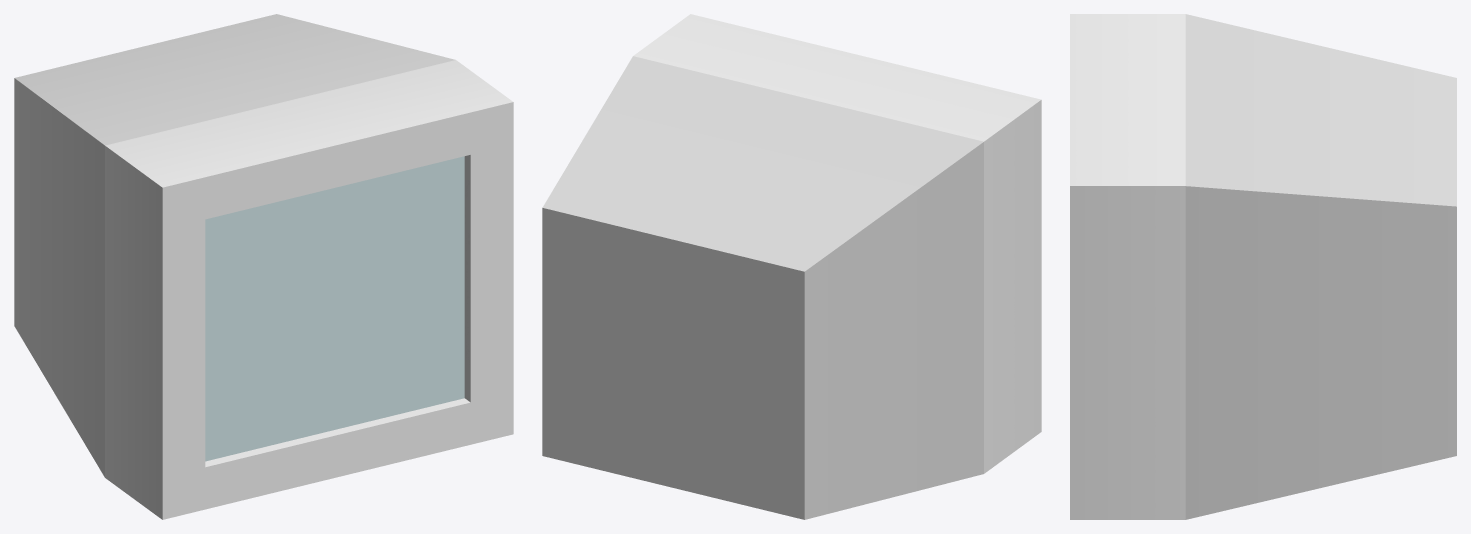
Rendered from Itr_Obj_Monitor_CRT_Screen_On_04.FBX.
The picture shows the model from 3 angles, left to right: view 1: azimuth 30°, elevation 25°; view 2: azimuth 150°, elevation 25°; view 3: azimuth 270°, elevation 25°; orthographic projection.
Parts seen in each view (by area): view 1: Itr_Obj_Monitor_CRT_Screen_On_04; view 2: Itr_Obj_Monitor_CRT_Screen_On_04; view 3: Itr_Obj_Monitor_CRT_Screen_On_04.
Boxes of the visible parts, <box> form: Itr_Obj_Monitor_CRT_Screen_On_04: <box>14,14,513,519</box>; Itr_Obj_Monitor_CRT_Screen_On_04: <box>542,14,1041,519</box>; Itr_Obj_Monitor_CRT_Screen_On_04: <box>1070,14,1456,519</box>.
Size of the model in its own units: 20.38 by 18.44 by 19.36.
